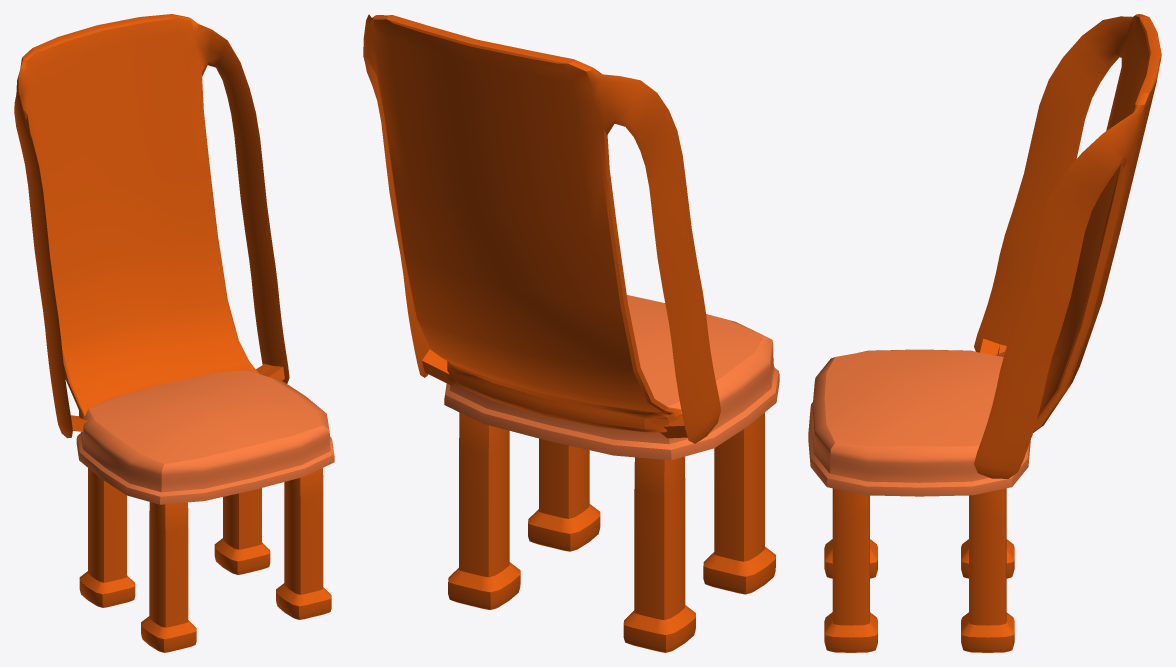
The model's file is chair2.fbx.
3 views of the same model, side by side, from view 1: azimuth 30°, elevation 25°; view 2: azimuth 150°, elevation 25°; view 3: azimuth 270°, elevation 25° (orthographic). The views are drawn at different scales.
Parts seen in each view (by area): view 1: Chair2; view 2: Chair2; view 3: Chair2.
Boxes of the visible parts, bbox=[...] form: Chair2: bbox=[14, 14, 334, 652]; Chair2: bbox=[363, 14, 779, 652]; Chair2: bbox=[808, 14, 1161, 652].
Bounding box in the file's own units: 59.06 × 129 × 74.56.
